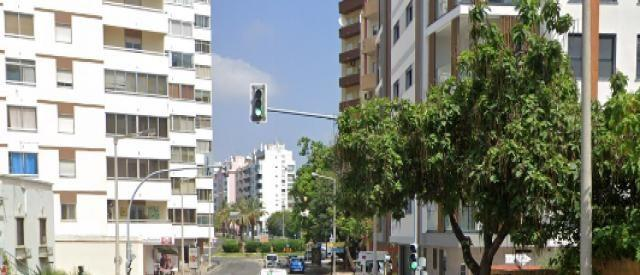green_light: (249, 83, 267, 123), (409, 243, 419, 270)
